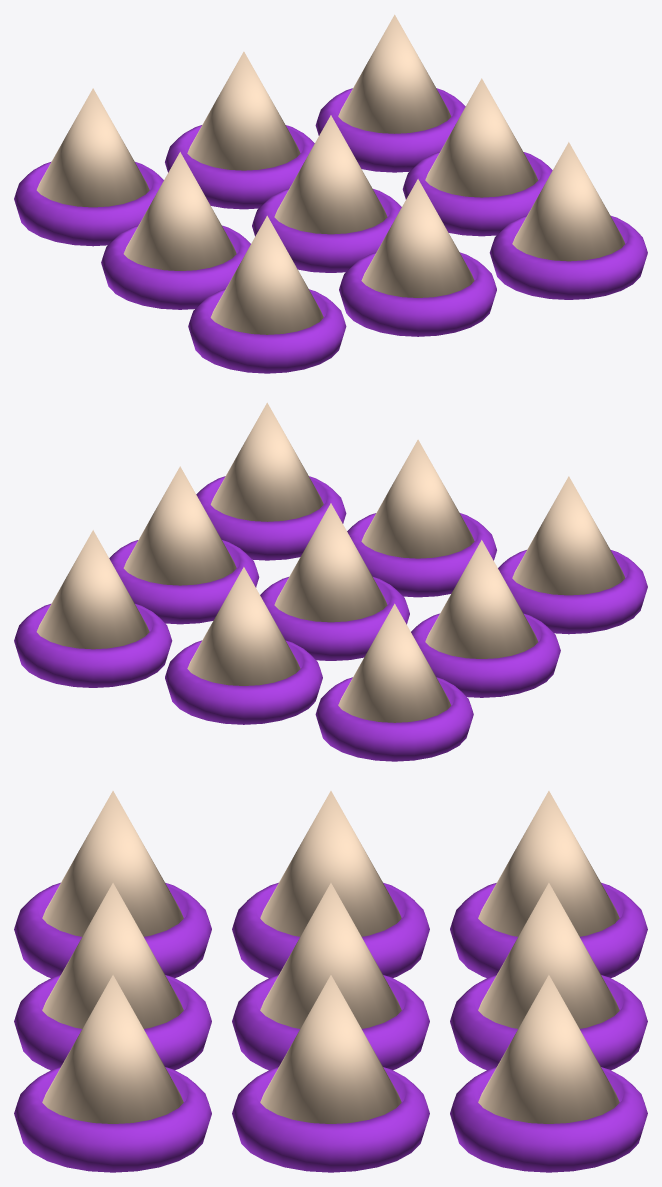
The model's file is Trap.fbx.
3 renders of one model, top to bottom at view 1: azimuth 30°, elevation 25°; view 2: azimuth 150°, elevation 25°; view 3: azimuth 270°, elevation 25°, orthographic. The views are drawn at different scales.
Parts seen in each view (by area): view 1: Trap; view 2: Trap; view 3: Trap.
Part boxes in pixels (x1,y1,x2,y2): Trap: (14, 14, 647, 373); Trap: (14, 402, 647, 761); Trap: (14, 791, 647, 1172).
Size of the model in its own units: 0.422 by 0.1167 by 0.422.
